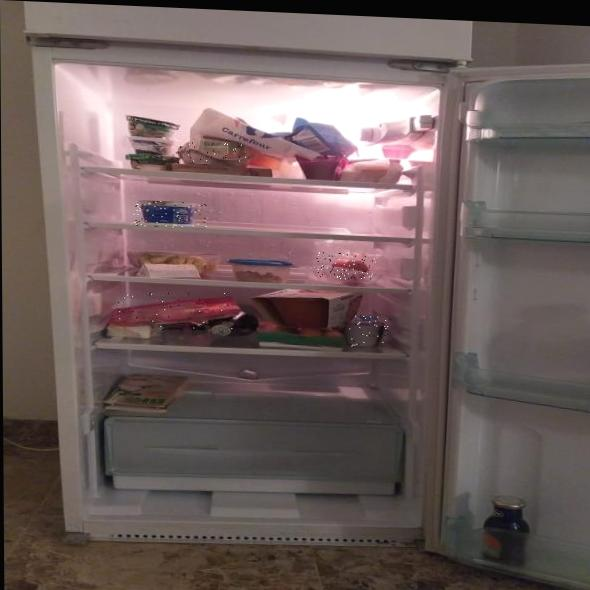butter: (106, 323, 153, 340)
eggs: (178, 141, 249, 166), (317, 253, 376, 281)
ham: (113, 288, 239, 331)
yoghurt: (134, 200, 207, 230), (348, 315, 390, 349)
